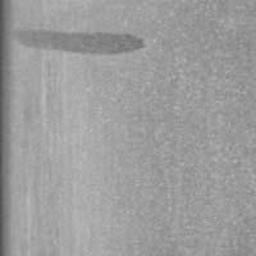Oil spot: (13, 28, 147, 56)
